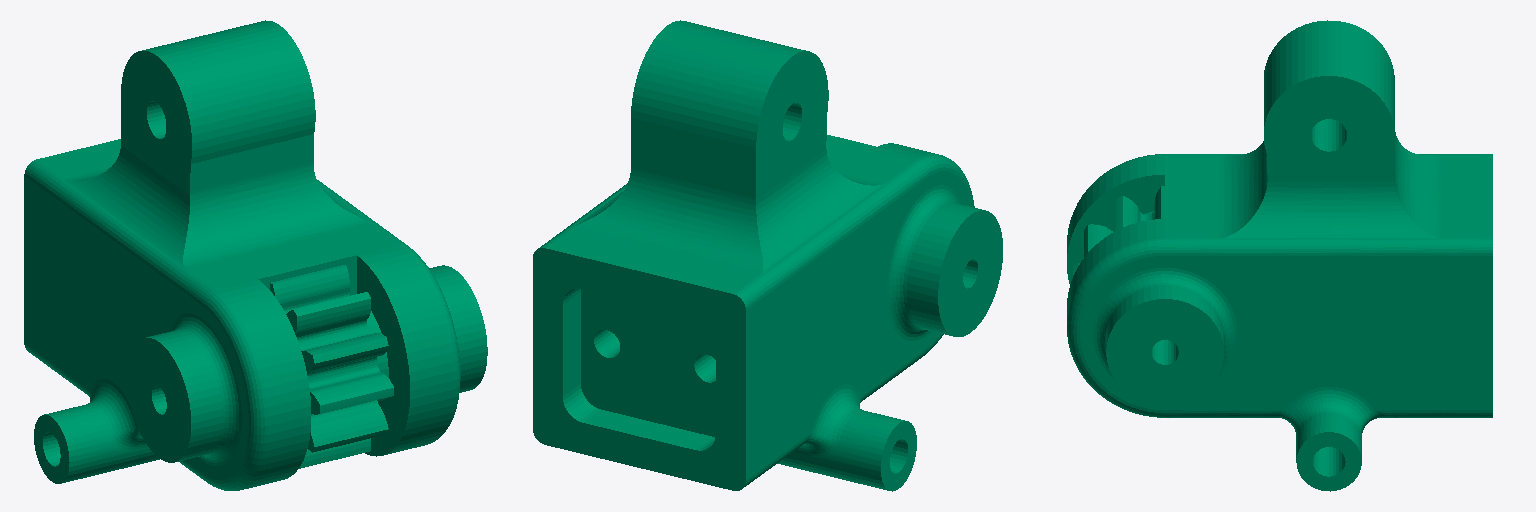
The robot description file, URDF, robot "new_urdf_assembly":
<?xml version='1.0' encoding='utf-8'?>
<robot name="new_urdf_assembly">
    <link name="shoulder">
        <inertial>
            <origin xyz="-7.853433140069155e-08 -0.10641379216315391 -0.0076335389692646465" rpy="0.0 0.0 0.0" />
            <mass value="1.00209496973953" />
            <inertia ixx="0.0008813765274265917" iyy="0.00041153382449582427" izz="0.0009583856240936404" ixy="2.9846514576729824e-09" iyz="-5.003593754259329e-05" ixz="1.0002397421138782e-09" />
        </inertial>
        <visual name="shoulder_visual">
            <origin xyz="0.0 0.0 0.0" rpy="0.0 0.0 0.0" />
            <geometry>
                <mesh filename="package://moveit_bot_bias_bot_description/meshes/shoulder.stl" scale="0.001 0.001 0.001" />
            </geometry>
        </visual>
        <collision name="shoulder_collision">
            <origin xyz="0.0 0.0 0.0" rpy="0.0 0.0 0.0" />
            <geometry>
                <mesh filename="package://moveit_bot_bias_bot_description/meshes/shoulder.stl" scale="0.001 0.001 0.001" />
            </geometry>
        </collision>
    </link>
    <link name="joint">
        <inertial>
            <origin xyz="1.0118791249347226e-10 -0.008594906122159891 0.0024999999999999866" rpy="0.0 -0.0 0.0" />
            <mass value="0.031171001796121915" />
            <inertia ixx="4.146876112089327e-06" iyy="1.1273781104004941e-06" izz="5.1443750483393396e-06" ixy="9.373734156502972e-15" iyz="-1.0164395367051604e-19" ixz="1.0164395367051604e-20" />
        </inertial>
        <visual name="joint_visual">
            <origin xyz="0.005000000149011621 -0.06899999999999987 0.02899999999999994" rpy="3.141592653589793 1.5707963267948961 0" />
            <geometry>
                <mesh filename="package://moveit_bot_bias_bot_description/meshes/joint.stl" scale="0.001 0.001 0.001" />
            </geometry>
        </visual>
        <collision name="joint_collision">
            <origin xyz="0.005000000149011621 -0.06899999999999987 0.02899999999999994" rpy="3.141592653589793 1.5707963267948961 0" />
            <geometry>
                <mesh filename="package://moveit_bot_bias_bot_description/meshes/joint.stl" scale="0.001 0.001 0.001" />
            </geometry>
        </collision>
    </link>
    <link name="arm">
        <inertial>
            <origin xyz="0.0026585919301290997 -0.01918221579033086 -0.024000571816830726" rpy="0.0 -0.0 0.0" />
            <mass value="0.5711036137259029" />
            <inertia ixx="0.00020878598785673046" iyy="0.00015346622537076968" izz="0.00023149872173090373" ixy="9.115549979373943e-06" iyz="-1.8928363147603315e-09" ixz="-5.6468142581902705e-09" />
        </inertial>
        <visual name="arm_visual">
            <origin xyz="-0.0049999998509883525 -0.04499999999999992 -0.024000000000000066" rpy="-3.141592653589793 -1.5707963267948966 0" />
            <geometry>
                <mesh filename="package://moveit_bot_bias_bot_description/meshes/arm.stl" scale="0.001 0.001 0.001" />
            </geometry>
        </visual>
        <collision name="arm_collision">
            <origin xyz="-0.0049999998509883525 -0.04499999999999992 -0.024000000000000066" rpy="-3.141592653589793 -1.5707963267948966 0" />
            <geometry>
                <mesh filename="package://moveit_bot_bias_bot_description/meshes/arm.stl" scale="0.001 0.001 0.001" />
            </geometry>
        </collision>
    </link>
    <joint name="shoulder_Revolute-1" type="continuous">
        <origin xyz="0.024 -0.069 0.005" rpy="-3.141592653589793 -1.5707963267948966 0" />
        <parent link="shoulder" />
        <child link="joint" />
        <axis xyz="0.0 0.0 1.0" />
    </joint>
    <joint name="joint_Revolute-3" type="continuous">
        <origin xyz="0.0 -0.024000000000000004 0.0" rpy="0.0 -0.0 0.0" />
        <parent link="joint" />
        <child link="arm" />
        <axis xyz="-0.0 0.0 -1.0" />
        <mimic joint="shoulder_Revolute-1" multiplier="-1.0" offset="0.0" />
    </joint>
</robot>

--- Facts derived from the render (not from the file) ---
The picture shows the robot from 3 angles, left to right: view 1: azimuth 30°, elevation 25°; view 2: azimuth 150°, elevation 25°; view 3: azimuth 270°, elevation 25°; orthographic projection.
Robot: new_urdf_assembly — 3 links, 2 joints (2 continuous); root link shoulder; default pose: all joints at 0.
Visible links, largest first — view 1: arm; view 2: arm; view 3: arm.
Link boxes in pixels (box(x1,y1,x2,y2)): arm: box(24, 20, 487, 490); arm: box(533, 20, 1002, 491); arm: box(1067, 20, 1492, 491).
Size in the robot's own frame: 0.054 by 0.065 by 0.062 metres.
1 mesh visuals loaded from 3 distinct referenced files (1 binary STL); not drawn: 2 (reference not matched to a file when rendering).